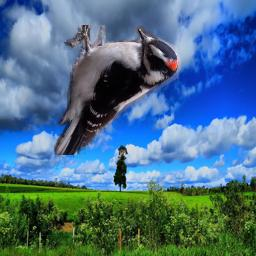Woodpecker: (54, 25, 181, 155)
